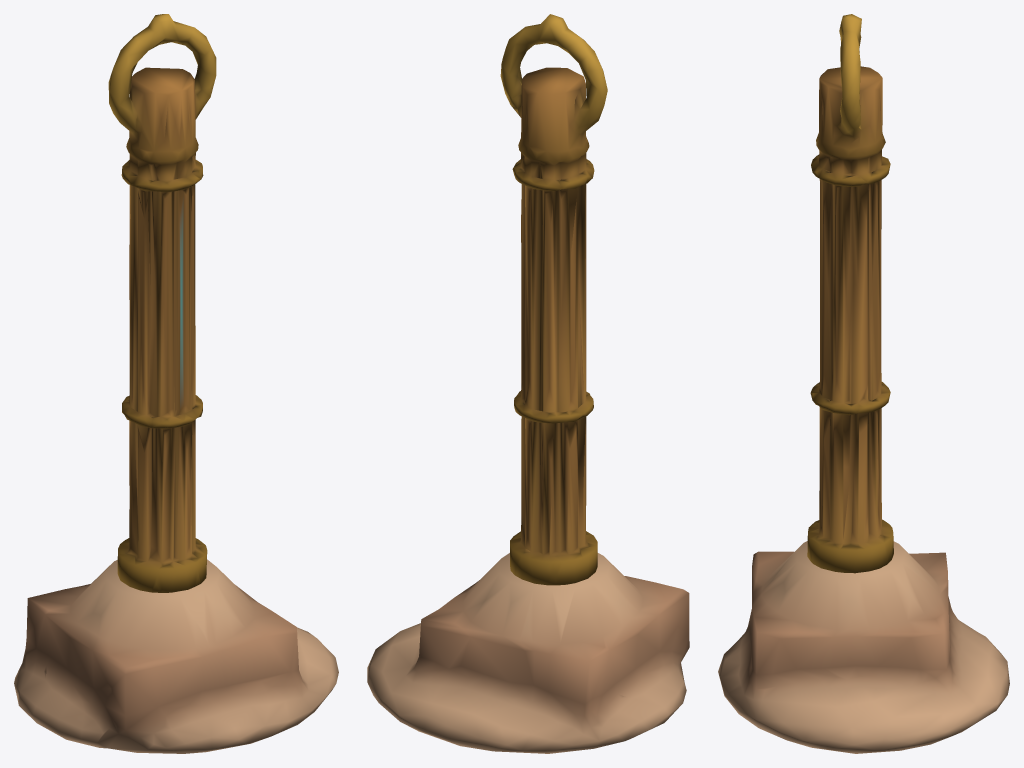
File: cabeco_baixo.glb
3 renders of one model, left to right at view 1: azimuth 30°, elevation 25°; view 2: azimuth 150°, elevation 25°; view 3: azimuth 270°, elevation 25°, orthographic. The views are drawn at different scales.
Parts seen in each view (by area): view 1: Base, Coluna; view 2: Base, Coluna; view 3: Base, Coluna.
Part boxes in pixels (x1,y1,x2,y2): Base: [14, 559, 338, 753]; Coluna: [108, 14, 216, 592]; Base: [367, 553, 689, 753]; Coluna: [500, 14, 607, 585]; Base: [718, 541, 1009, 753]; Coluna: [807, 14, 893, 573].
Size of the model in its own units: 1.11 by 2.62 by 1.01.
